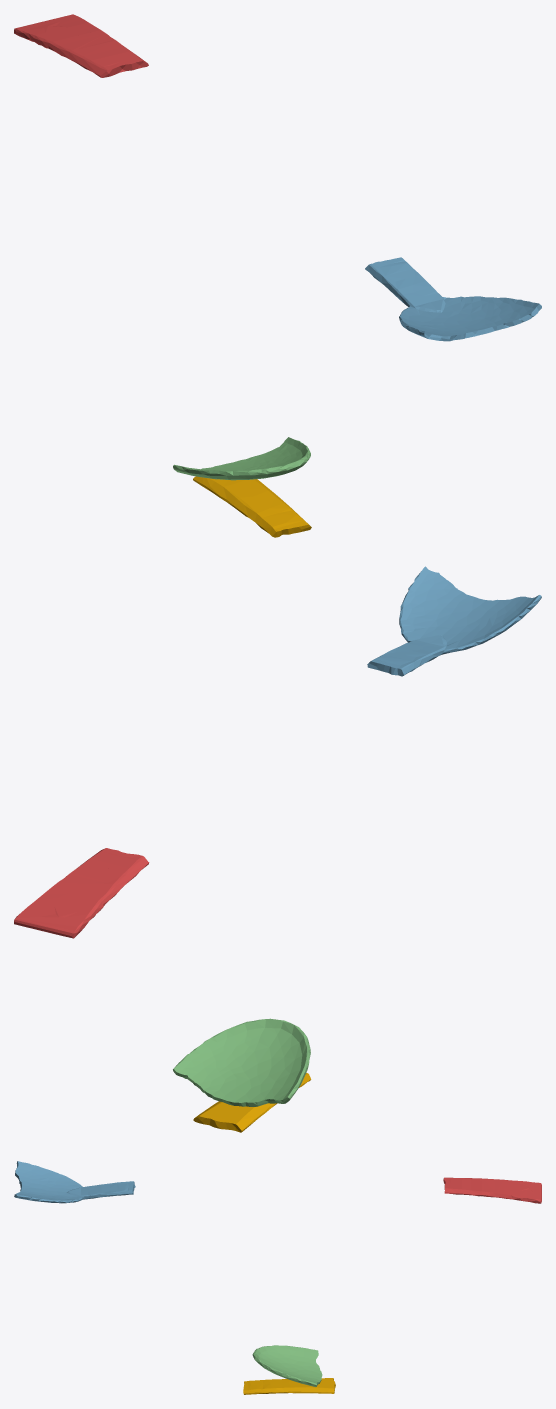
File: mode_3_4pcs_transformed.glb
The picture shows the model from 3 angles, top to bottom: view 1: azimuth 30°, elevation 25°; view 2: azimuth 150°, elevation 25°; view 3: azimuth 270°, elevation 25°; orthographic projection. The views are drawn at different scales.
Parts seen in each view (by area): view 1: piece_2.obj, piece_1.obj, piece_0.obj, piece_3.obj; view 2: piece_3.obj, piece_2.obj, piece_1.obj, piece_0.obj; view 3: piece_2.obj, piece_3.obj, piece_1.obj, piece_0.obj.
Boxes of the visible parts, x1,y1,x2,y2 form: piece_2.obj: (365, 257, 541, 341); piece_1.obj: (14, 14, 148, 77); piece_0.obj: (193, 476, 311, 537); piece_3.obj: (173, 437, 310, 480); piece_3.obj: (173, 1018, 310, 1106); piece_2.obj: (367, 566, 541, 676); piece_1.obj: (14, 848, 149, 938); piece_0.obj: (193, 1073, 311, 1132); piece_2.obj: (14, 1161, 135, 1203); piece_3.obj: (252, 1345, 322, 1386); piece_1.obj: (443, 1177, 541, 1203); piece_0.obj: (243, 1378, 335, 1394).
Size of the model in its own units: 0.2204 by 0.636 by 1.43.
